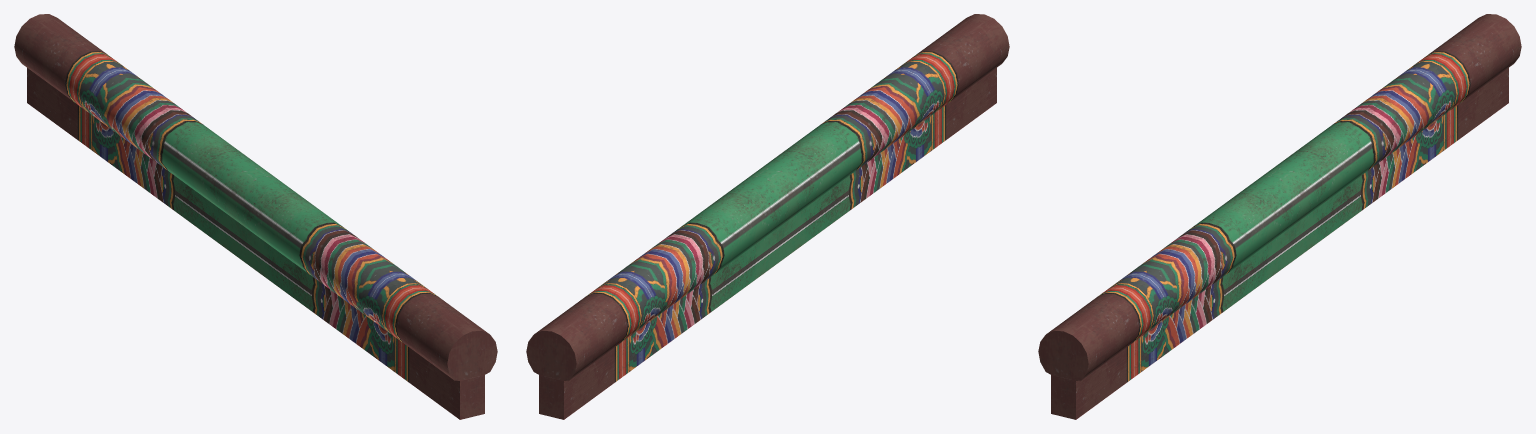
The model's file is SM_Purlin02g.fbx.
3 renders of one model, left to right at view 1: azimuth 30°, elevation 25°; view 2: azimuth 150°, elevation 25°; view 3: azimuth 330°, elevation 25°, orthographic.
Parts seen in each view (by area): view 1: SM_Purlin02g; view 2: SM_Purlin02g; view 3: SM_Purlin02g.
Boxes of the visible parts, <box> form: SM_Purlin02g: <box>14,14,497,419</box>; SM_Purlin02g: <box>526,14,1009,419</box>; SM_Purlin02g: <box>1038,14,1521,419</box>.
Size of the model in its own units: 20.15 by 300 by 32.73.
1 material, 1 textured.
